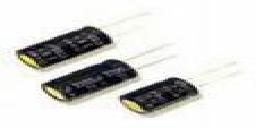Electrolytic-Capacitor: (36, 55, 188, 109), (13, 12, 163, 65), (120, 76, 207, 110)
